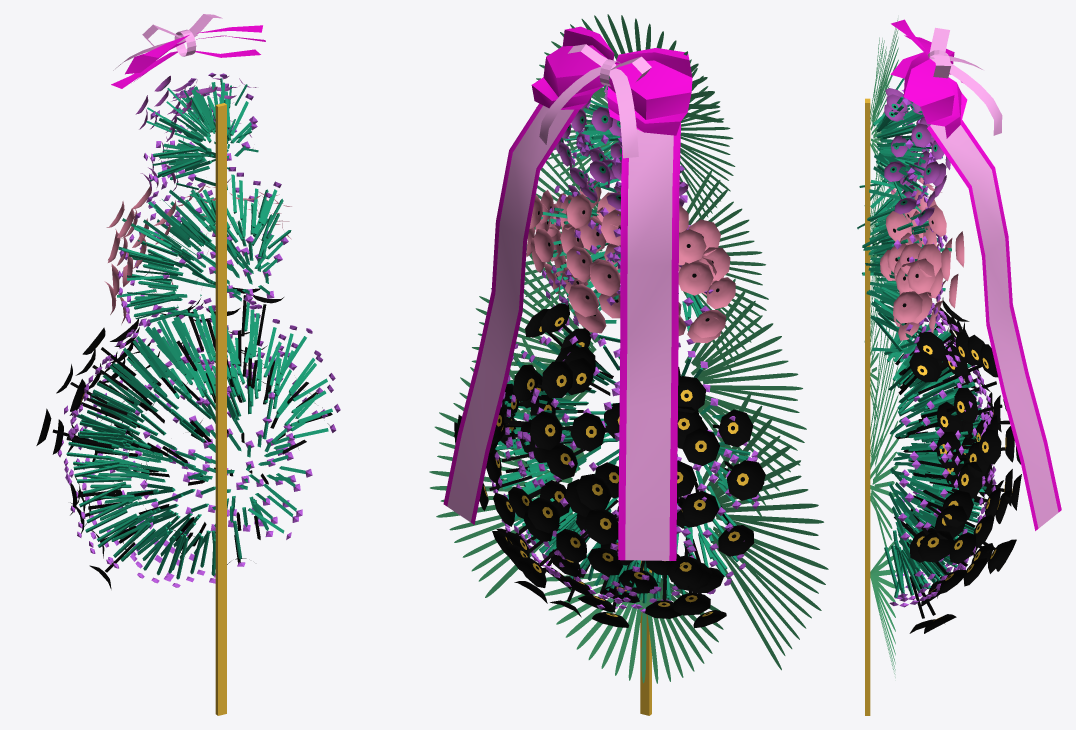
Rendered from flower02.glb.
3 renders of one model, left to right at view 1: azimuth 30°, elevation 25°; view 2: azimuth 150°, elevation 25°; view 3: azimuth 270°, elevation 25°, orthographic. The views are drawn at different scales.
Visible parts, largest first — view 1: 화환.1-Mat.1 (×7), 화환.1-flower.mat2; view 2: 화환.1-Mat.1 (×10), 화환.1-flower.mat2; view 3: 화환.1-Mat.1 (×11), 화환.1-flower.mat2.
Part boxes in pixels (x1,y1,x2,y2): 화환.1-Mat.1 (×7): (48,14,340,715); 화환.1-flower.mat2: (36,285,332,589); 화환.1-Mat.1 (×10): (429,14,828,715); 화환.1-flower.mat2: (454,303,765,628); 화환.1-Mat.1 (×11): (857,19,1061,715); 화환.1-flower.mat2: (894,297,1021,633).
Size of the model in its own units: 0.8697 by 1.47 by 0.3965.
10 materials, 2 textured.
